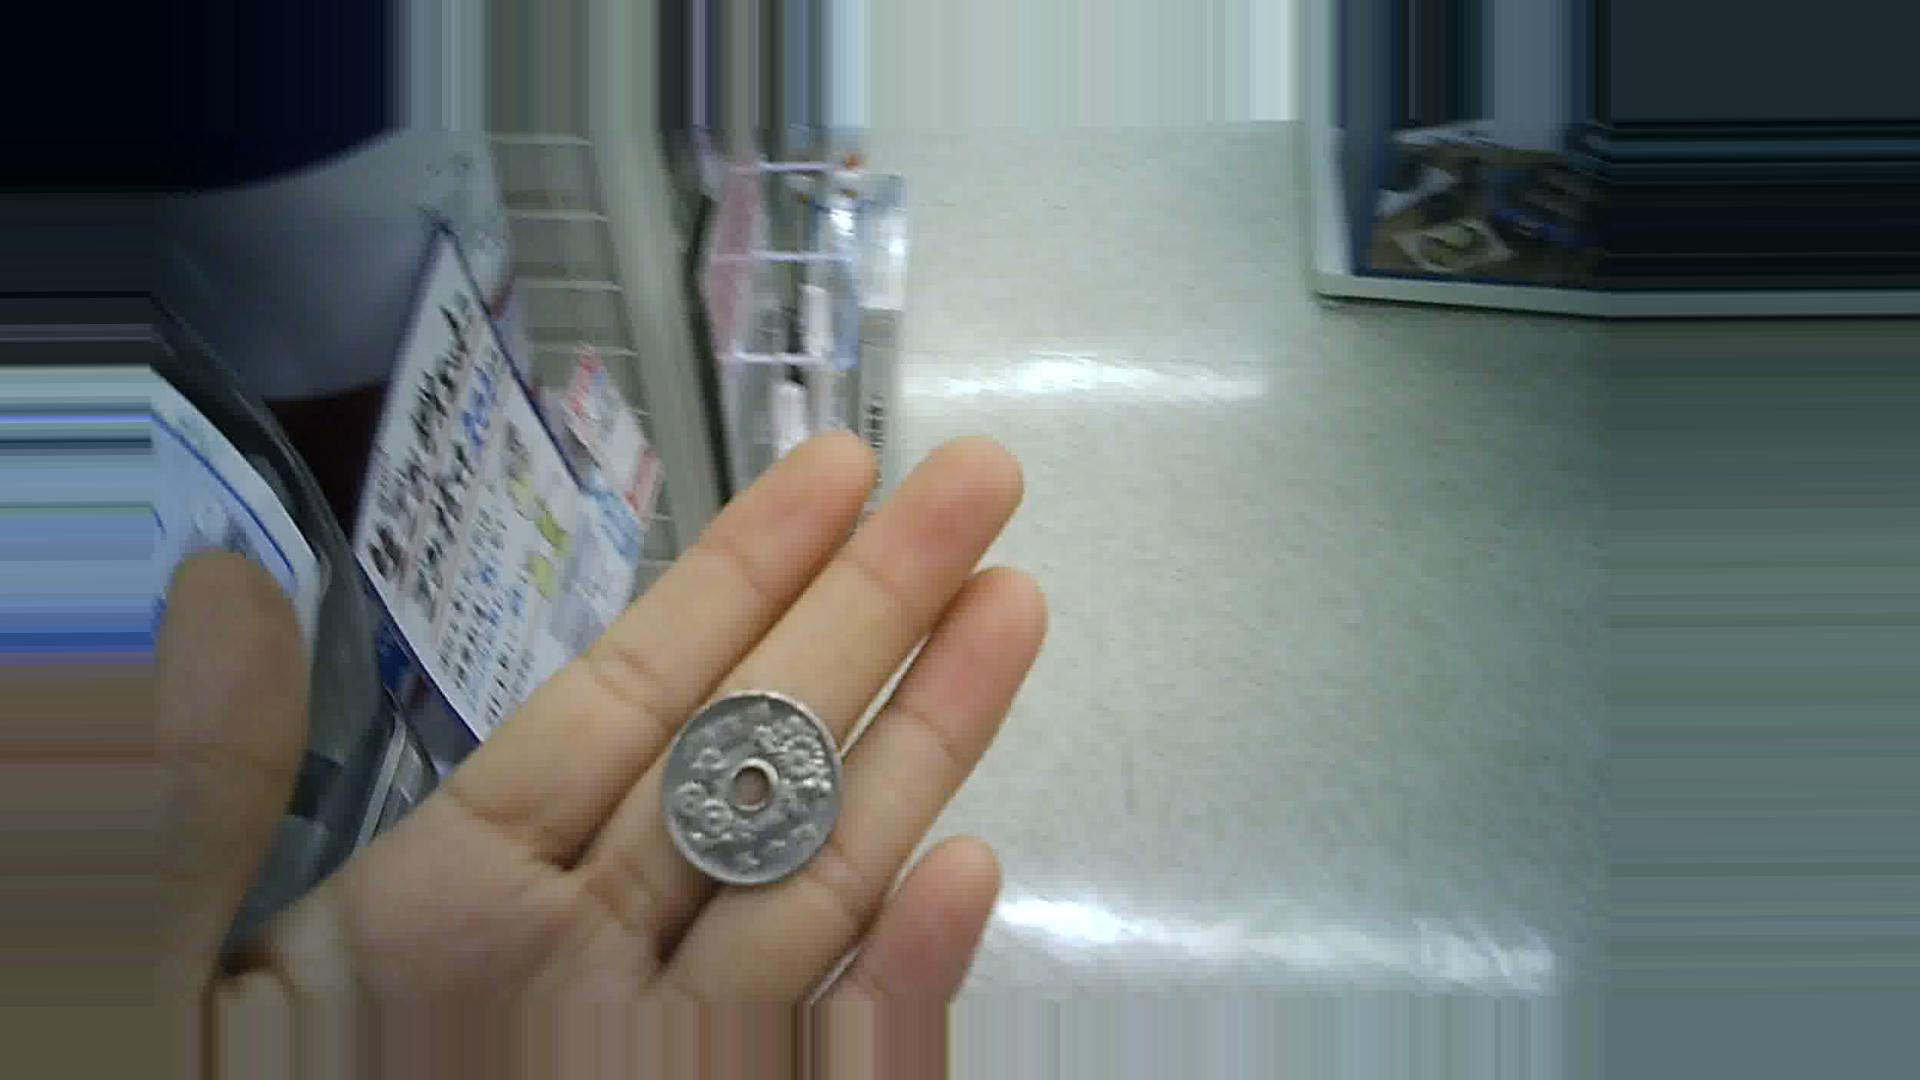50 Yen: (659, 680, 847, 889)
